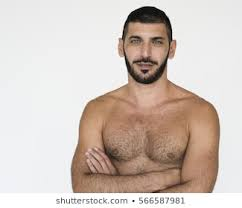middle_eastern_male: (118, 17, 176, 84)
